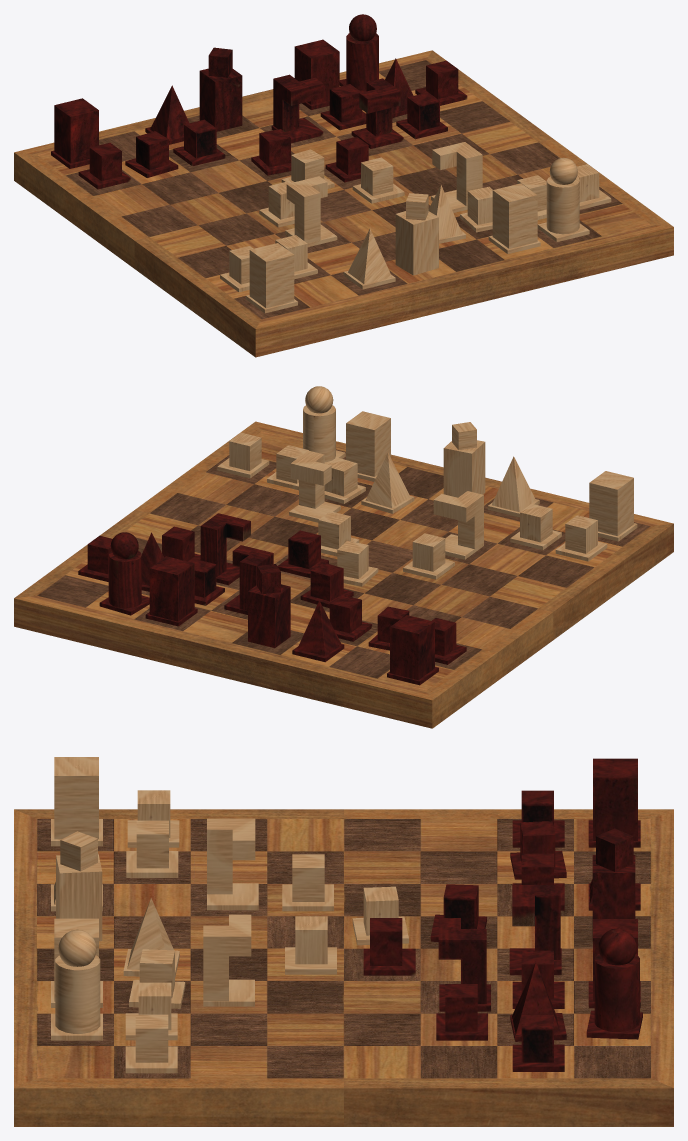
The model's file is obj_bauhaus_chess_set_model_xvi_238279.glb.
3 views of the same model, one above another, from view 1: azimuth 30°, elevation 25°; view 2: azimuth 150°, elevation 25°; view 3: azimuth 270°, elevation 25° (orthographic). The views are drawn at different scales.
Visible parts, largest first — view 1: obj_bauhaus_chess_set_model_xvi_238279; view 2: obj_bauhaus_chess_set_model_xvi_238279; view 3: obj_bauhaus_chess_set_model_xvi_238279.
Part boxes in pixels (left/top/right/bottom): obj_bauhaus_chess_set_model_xvi_238279: left=14, top=14, right=673, bottom=357; obj_bauhaus_chess_set_model_xvi_238279: left=14, top=386, right=673, bottom=728; obj_bauhaus_chess_set_model_xvi_238279: left=14, top=757, right=673, bottom=1126.
Bounding box in the file's own units: 0.4 × 0.0915 × 0.3999.
1 material, 1 textured.
